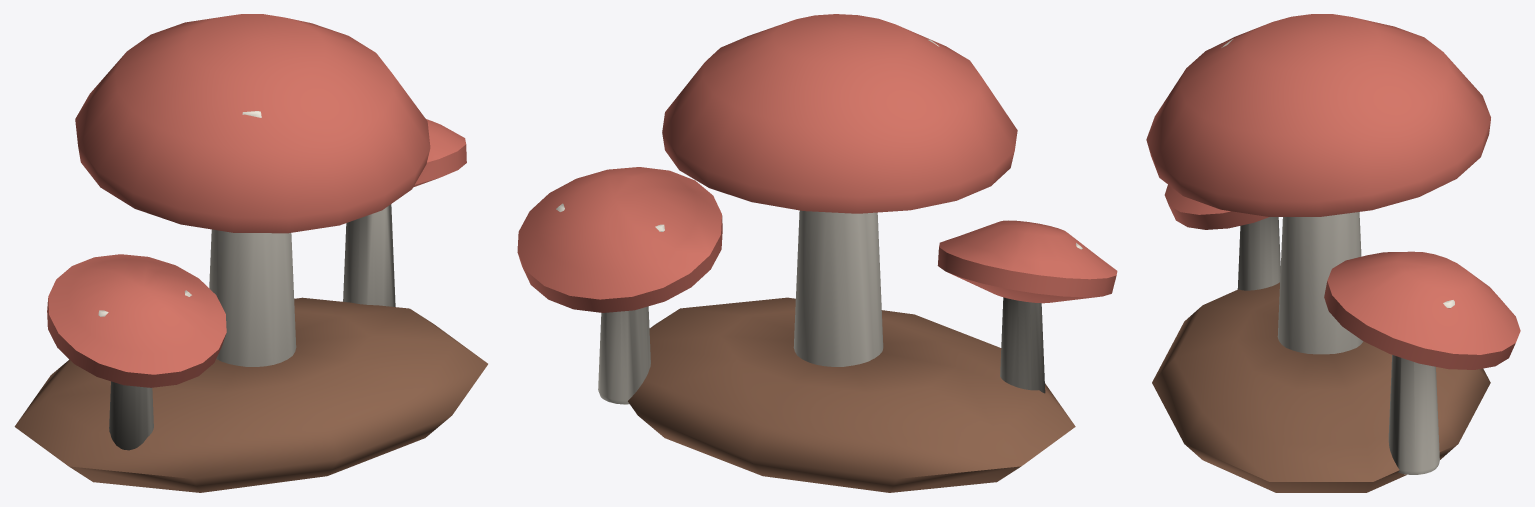
The model's file is nd_mushroom.glb.
The picture shows the model from 3 angles, left to right: view 1: azimuth 30°, elevation 25°; view 2: azimuth 150°, elevation 25°; view 3: azimuth 270°, elevation 25°; orthographic projection. The views are drawn at different scales.
Visible parts, largest first — view 1: PART; view 2: PART; view 3: PART.
Part boxes in pixels (left/top/right/bottom): PART: left=14, top=14, right=487, bottom=492; PART: left=517, top=14, right=1117, bottom=492; PART: left=1146, top=14, right=1520, bottom=492.
Size of the model in its own units: 0.1762 by 0.1415 by 0.1215.
